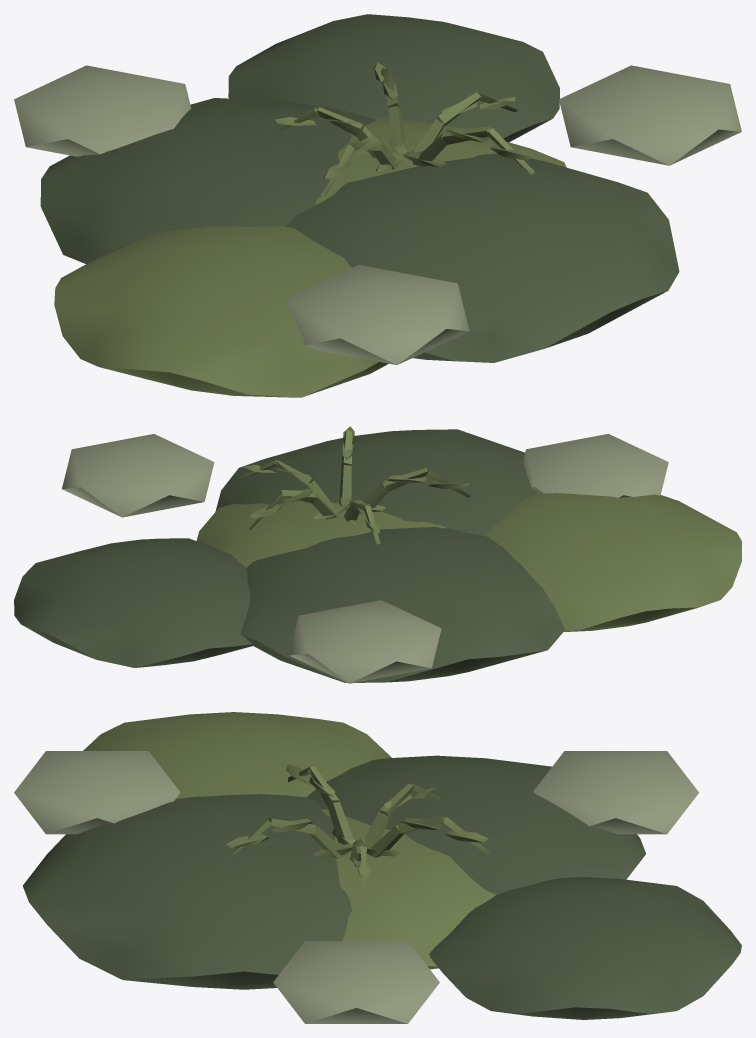
File: cave_fern_c_lod1.glb
3 renders of one model, top to bottom at view 1: azimuth 30°, elevation 25°; view 2: azimuth 150°, elevation 25°; view 3: azimuth 270°, elevation 25°, orthographic. The views are drawn at different scales.
Parts seen in each view (by area): view 1: Surface.001; view 2: Surface.001; view 3: Surface.001.
Part boxes in pixels (x1,y1,x2,y2): Surface.001: (14,14,741,397); Surface.001: (14,426,741,683); Surface.001: (14,712,741,1023).
Bounding box in the file's own units: 2.88 × 0.6132 × 2.68.
